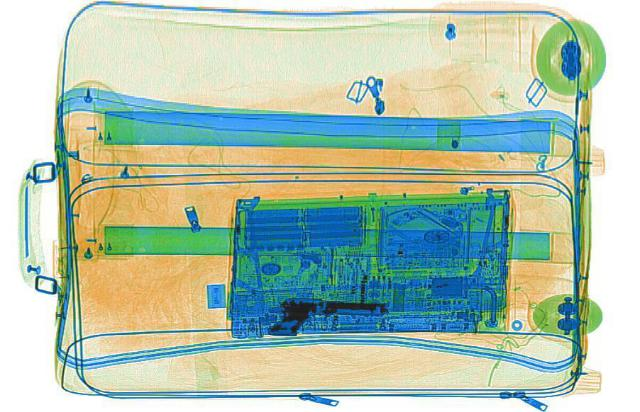Gun: (266, 292, 392, 343)
